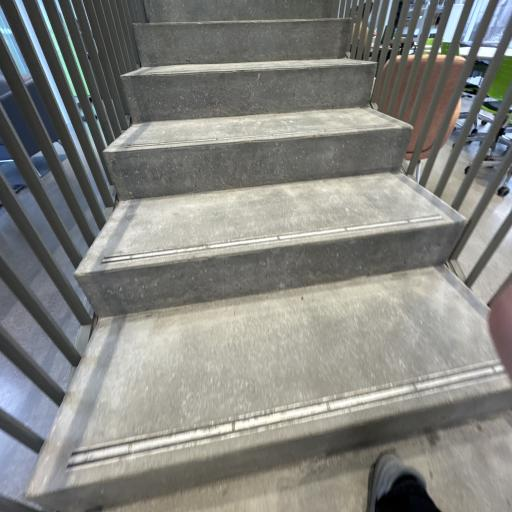Stairs: (26, 0, 512, 511), (27, 266, 512, 510), (75, 173, 464, 317), (104, 107, 411, 200), (122, 59, 376, 123), (134, 18, 350, 67), (144, 0, 339, 42)
